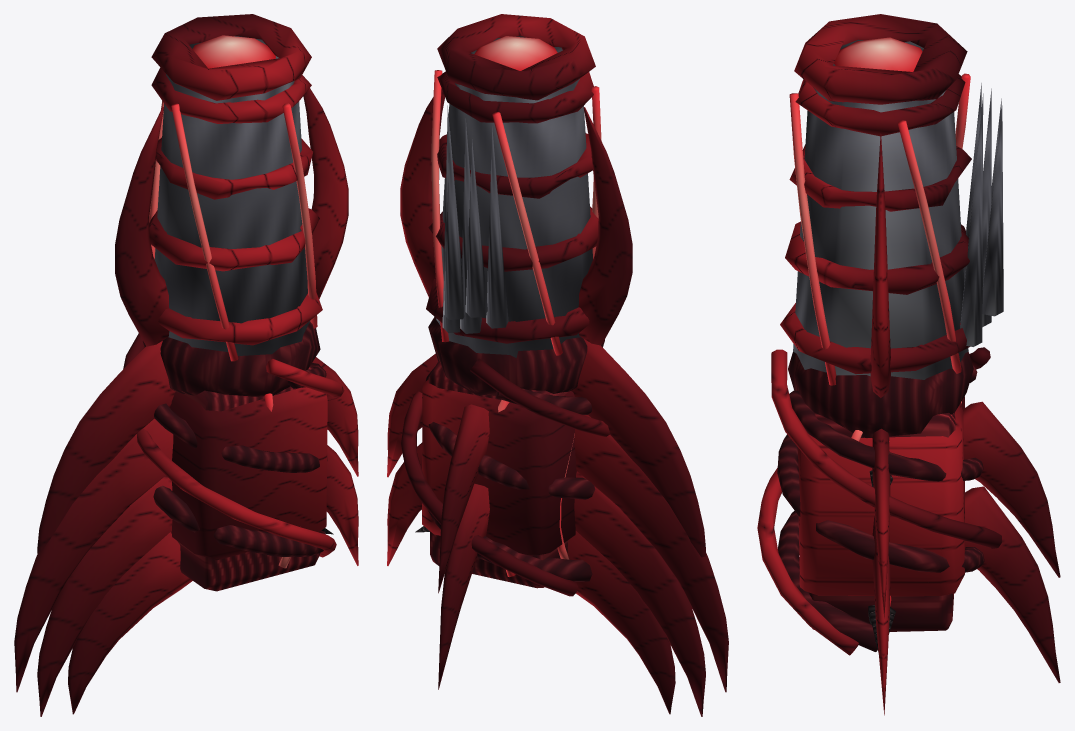
The model's file is parasite_spine_launcher.obj.
3 views of the same model, side by side, from view 1: azimuth 30°, elevation 25°; view 2: azimuth 150°, elevation 25°; view 3: azimuth 270°, elevation 25° (orthographic). The views are drawn at different scales.
Visible parts, largest first — view 1: spine_launcher; view 2: spine_launcher; view 3: spine_launcher.
Part boxes in pixels (x1,y1,x2,y2): spine_launcher: (14,14,358,716); spine_launcher: (387,14,728,716); spine_launcher: (757,14,1060,715).
Bounding box in the file's own units: 0.8814 × 1.56 × 0.6196.
